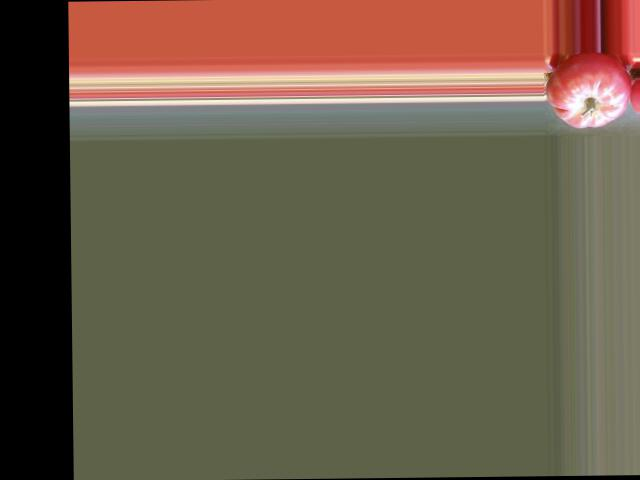tomato: (544, 51, 631, 128)
